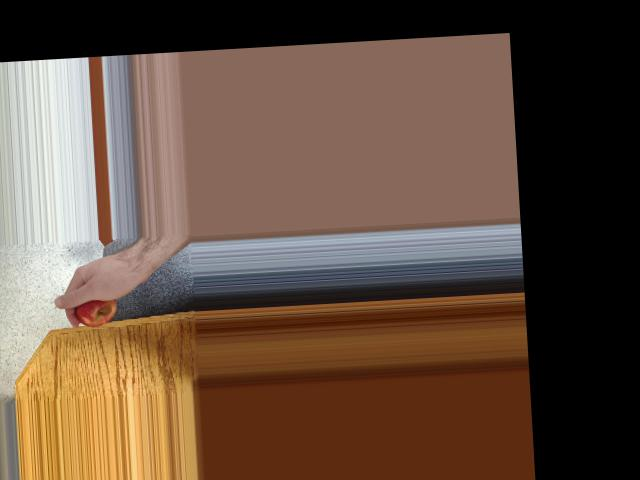apple: (71, 283, 120, 330)
